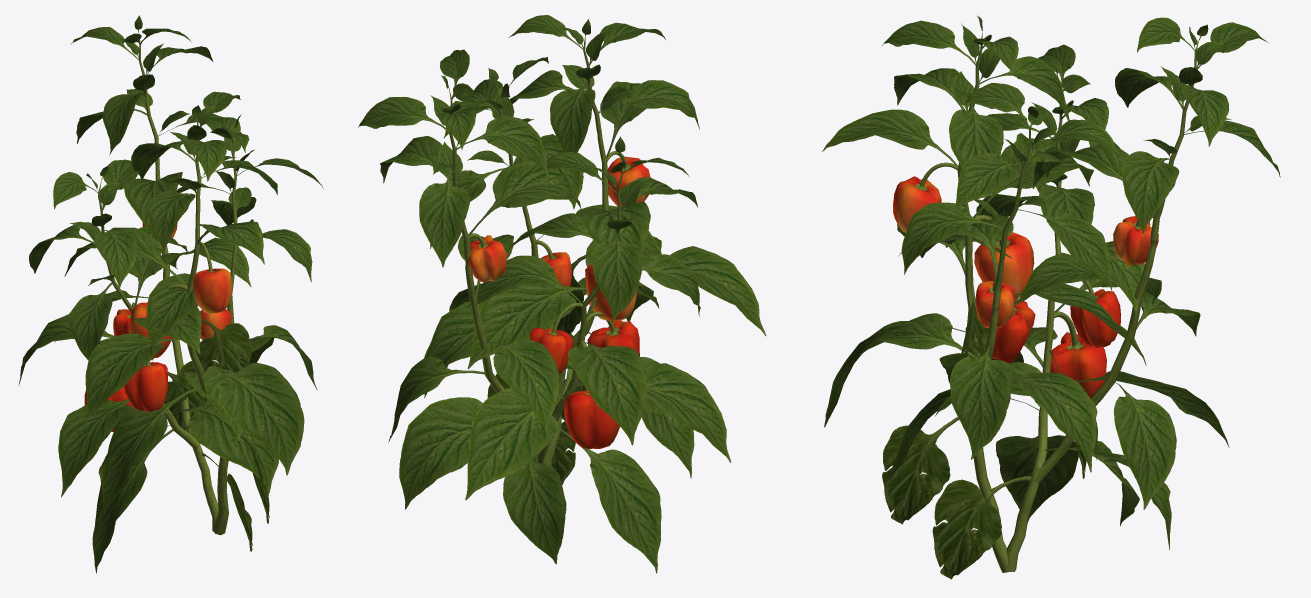
3 renders of one model, left to right at view 1: azimuth 30°, elevation 25°; view 2: azimuth 150°, elevation 25°; view 3: azimuth 270°, elevation 25°, orthographic. The views are drawn at different scales.
Parts seen in each view (by area): view 1: VG07_6; view 2: VG07_6; view 3: VG07_6.
Part boxes in pixels (<box>): VG07_6: <box>18,15,323,573</box>; VG07_6: <box>358,15,766,573</box>; VG07_6: <box>822,16,1280,579</box>.
Bounding box in the file's own units: 19.74 × 25.52 × 33.64.
Materials: 5 (5 with a texture image).
